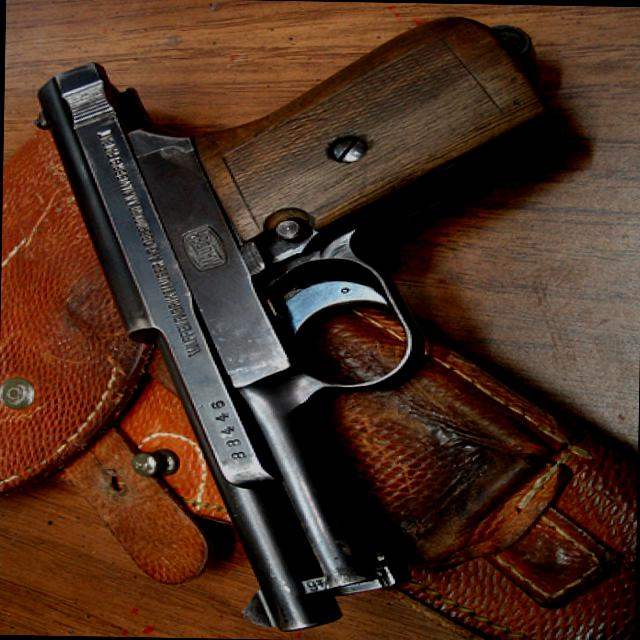handgun: (13, 8, 563, 635)
